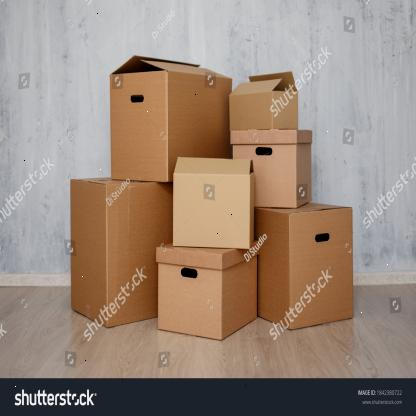box: (288, 206, 354, 332), (110, 71, 169, 182), (156, 246, 224, 340), (68, 180, 106, 330), (172, 174, 250, 246), (231, 131, 296, 209), (228, 90, 274, 150)
